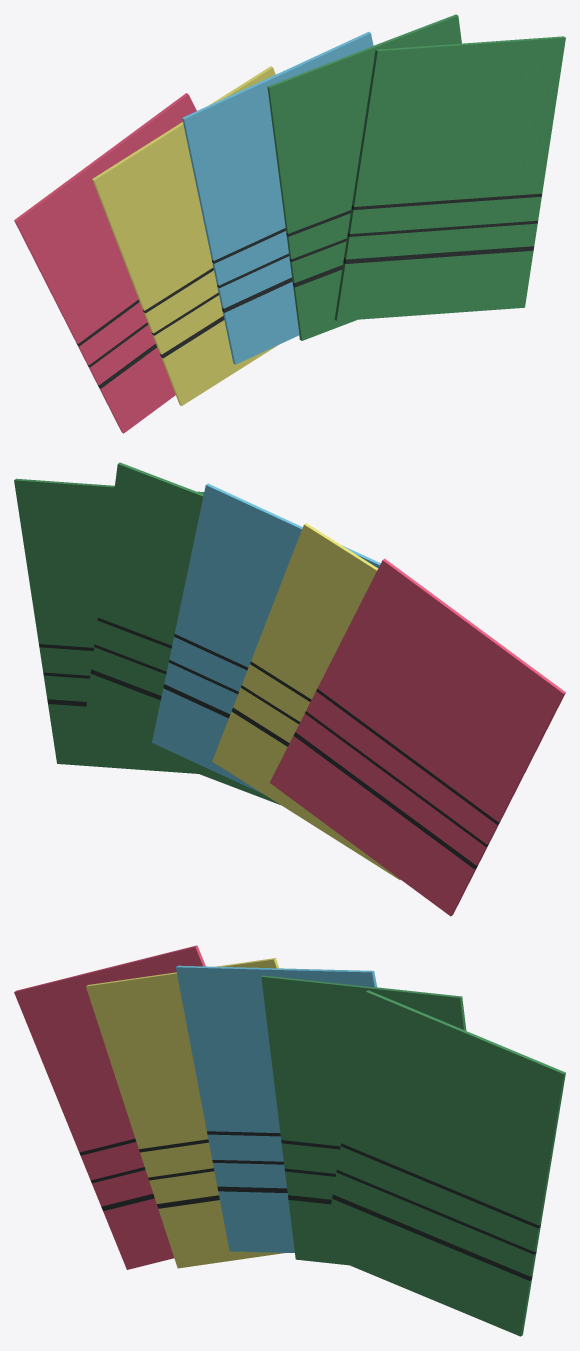
Rendered from trapitos.glb.
3 views of the same model, one above another, from view 1: azimuth 30°, elevation 25°; view 2: azimuth 150°, elevation 25°; view 3: azimuth 330°, elevation 25° (orthographic). The views are drawn at different scales.
Visible parts, largest first — view 1: Cube.001, Cube.002, Cube.004, Cube.003, Cube; view 2: Cube.003, Cube, Cube.002, Cube.004, Cube.001; view 3: Cube.001, Cube.002, Cube.004, Cube, Cube.003.
Part boxes in pixels (left/top/right/bottom): Cube.001: left=334, top=36, right=565, bottom=320; Cube.002: left=182, top=32, right=373, bottom=364; Cube.004: left=92, top=66, right=277, bottom=406; Cube.003: left=14, top=93, right=196, bottom=433; Cube: left=267, top=14, right=461, bottom=340; Cube.003: left=269, top=558, right=565, bottom=916; Cube: left=83, top=462, right=280, bottom=804; Cube.002: left=152, top=483, right=380, bottom=793; Cube.004: left=212, top=523, right=400, bottom=879; Cube.001: left=14, top=478, right=204, bottom=773; Cube.001: left=323, top=990, right=565, bottom=1336; Cube.002: left=176, top=965, right=376, bottom=1252; Cube.004: left=86, top=958, right=284, bottom=1268; Cube: left=261, top=975, right=466, bottom=1265; Cube.003: left=14, top=945, right=205, bottom=1269.
Bounding box in the file's own units: 0.6054 × 0.3742 × 0.0299.
